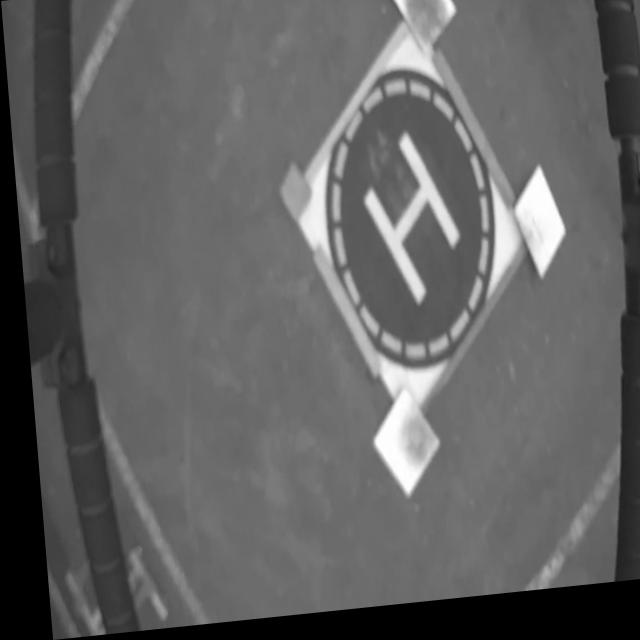Helipad: (357, 137, 454, 312)
